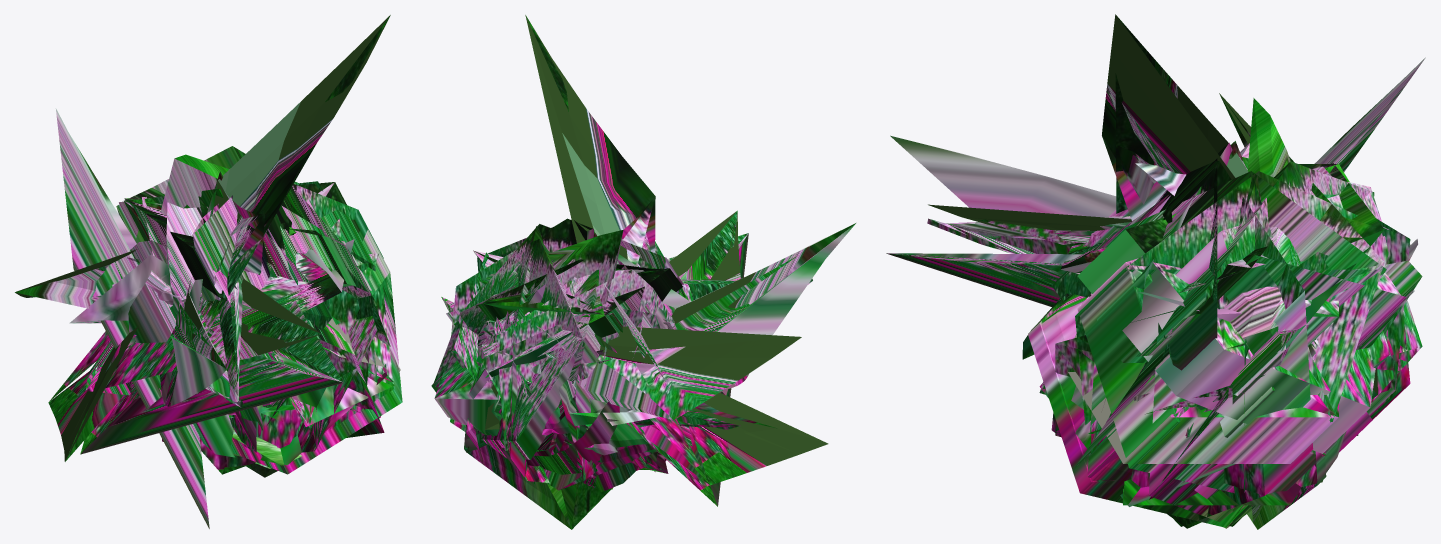
The model's file is flor5.gltf.
The picture shows the model from 3 angles, left to right: view 1: azimuth 30°, elevation 25°; view 2: azimuth 150°, elevation 25°; view 3: azimuth 270°, elevation 25°; orthographic projection. The views are drawn at different scales.
Parts seen in each view (by area): view 1: Icosphere; view 2: Icosphere; view 3: Icosphere.
Boxes of the visible parts, x1,y1,x2,y2 form: Icosphere: (15,15,402,528); Icosphere: (431,15,855,529); Icosphere: (886,14,1425,529).
Size of the model in its own units: 5.2 by 6.52 by 5.51.
1 material, 1 textured.
